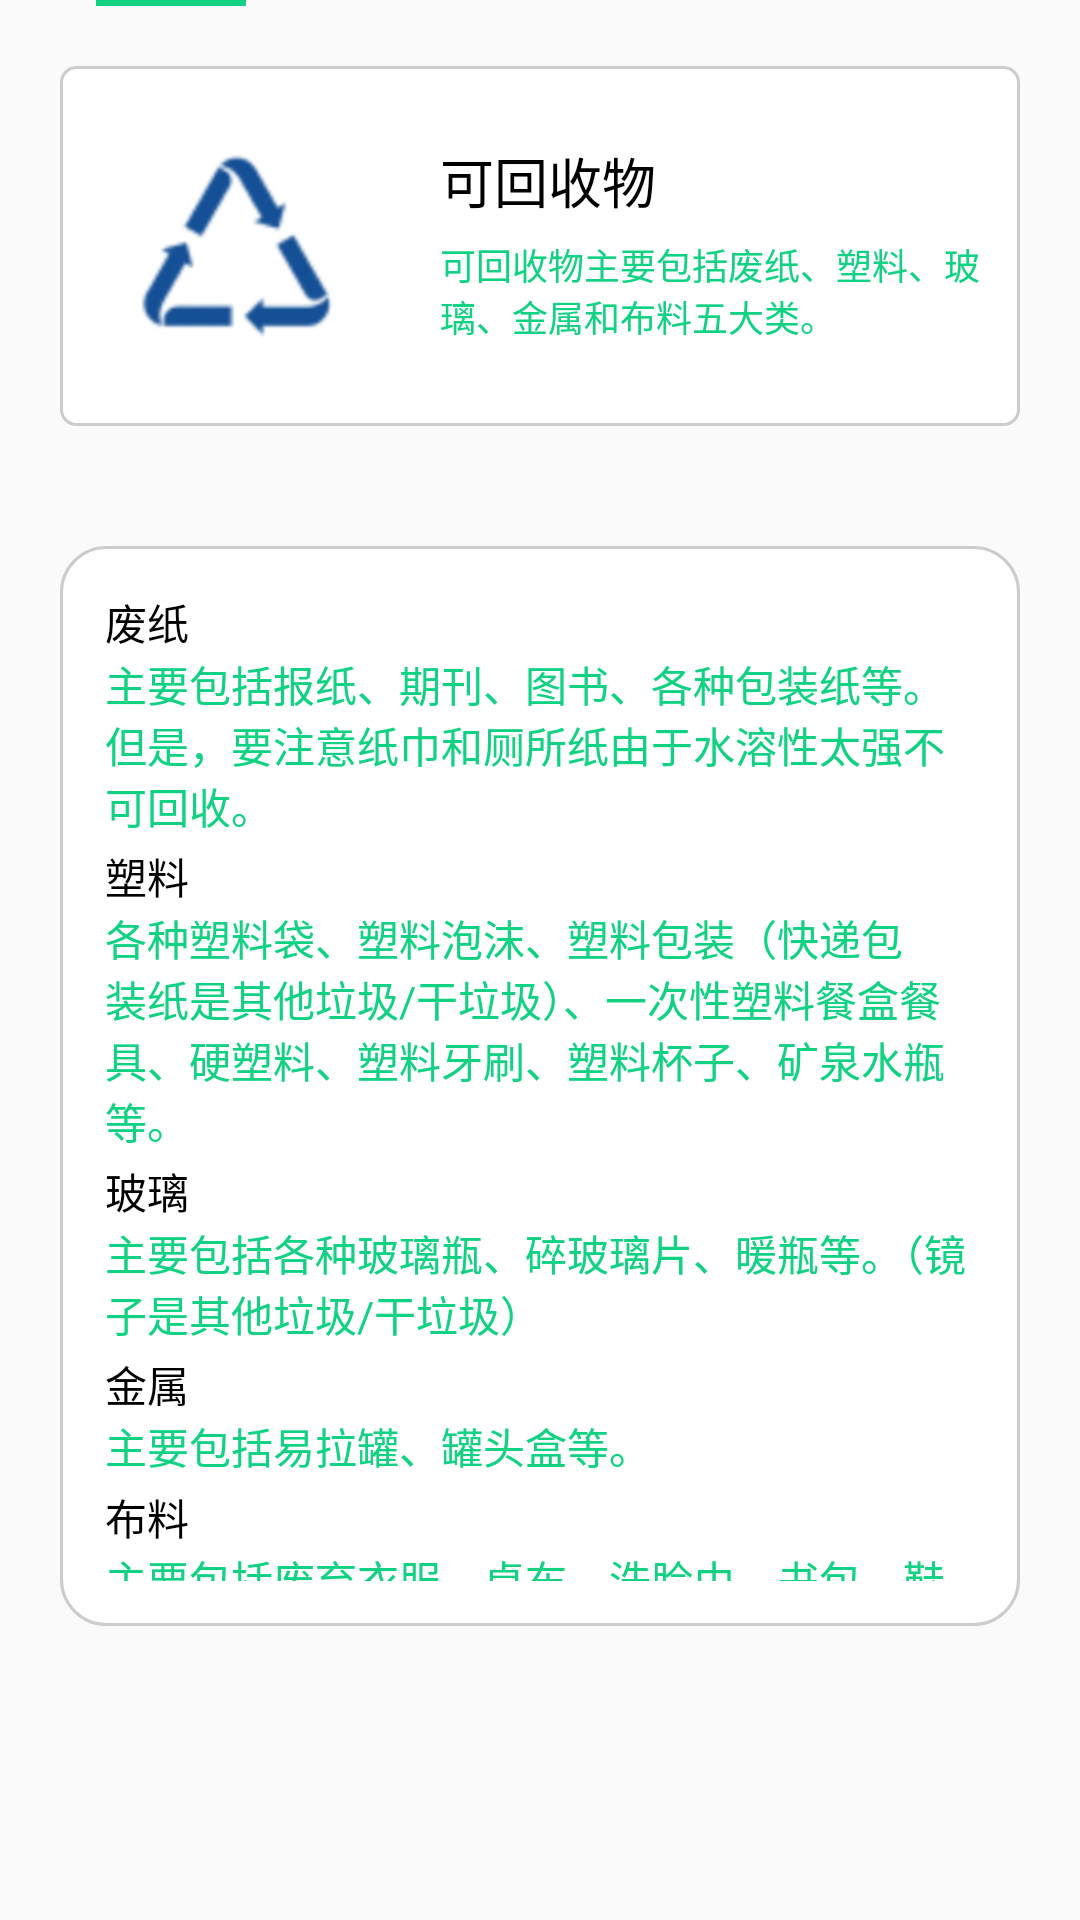

Locate icon controls on the screen. Image size 1080x1920, boxes as detection(x1, y1, x2, y2).
recycable: detection(142, 156, 331, 336)
